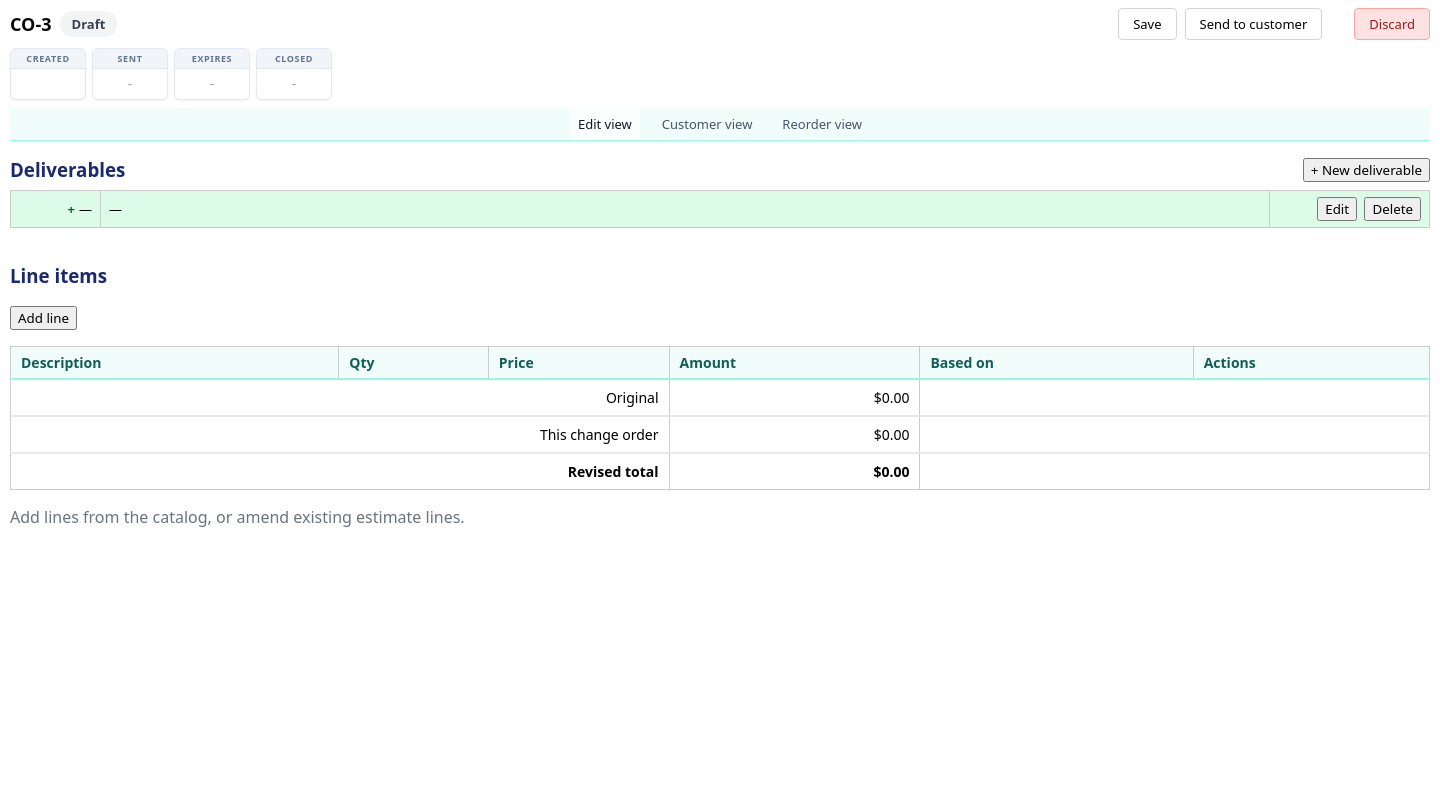
Test: ChangeOrderPanel send gate › Send to customer is a button that opens the send modal when the job has deliverables
Click the button "Send to customer" at (1253, 24), box x1=1184 y1=8 x2=1322 y2=40
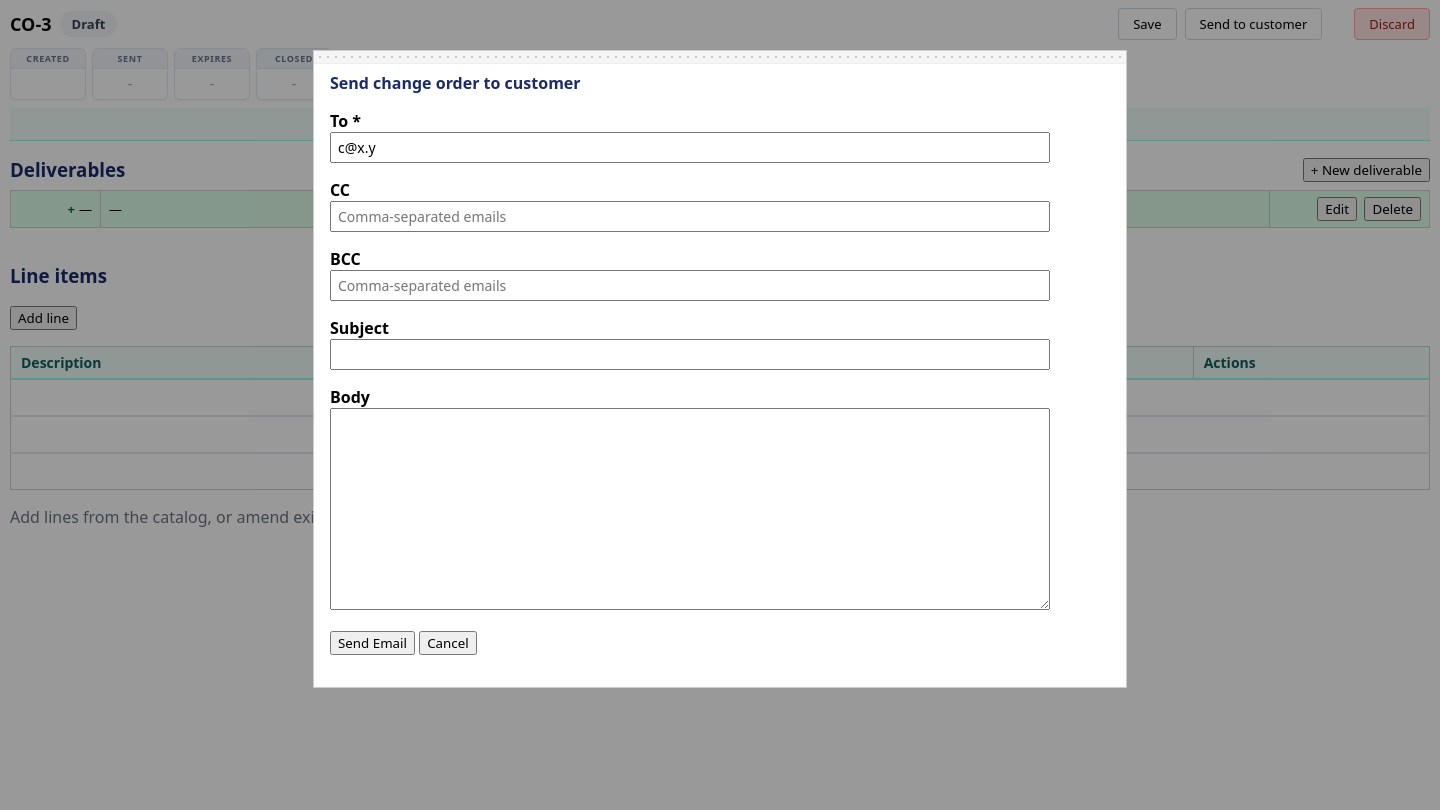
Expected: the dialog "Send change order" is shown, x1=313 y1=50 x2=1127 y2=688
